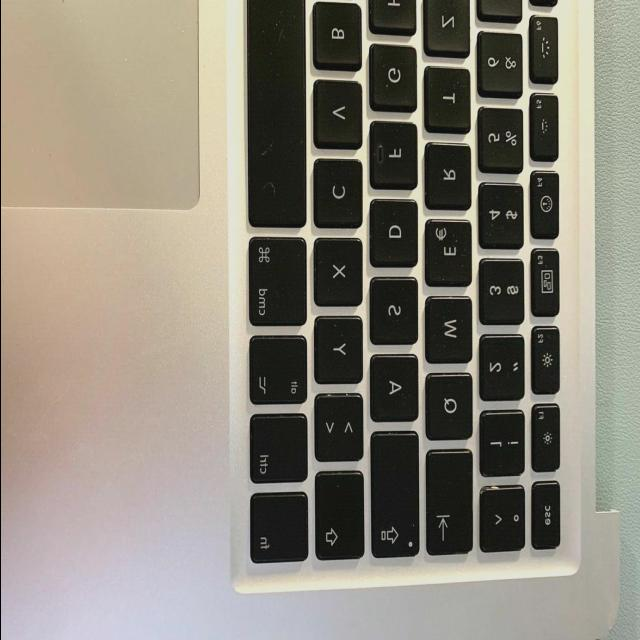1: (480, 412, 526, 480)
2: (481, 336, 527, 405)
3: (480, 260, 526, 328)
4: (480, 183, 526, 252)
5: (479, 108, 526, 176)
6: (478, 31, 526, 100)
a: (371, 355, 421, 426)
alt-left: (248, 335, 309, 409)
b: (314, 1, 365, 72)
c: (314, 159, 366, 232)
caret: (481, 487, 527, 556)
d: (371, 199, 421, 271)
e: (425, 220, 474, 291)
f: (371, 120, 421, 192)
g: (370, 44, 420, 114)
h: (371, 1, 419, 35)
keyboard: (228, 0, 598, 577)
less: (315, 393, 366, 466)
q: (425, 374, 475, 444)
r: (425, 143, 474, 213)
s: (371, 278, 421, 348)
shift-left: (315, 471, 367, 564)
shift-lock: (370, 432, 422, 564)
space: (248, 0, 309, 233)
strg-left: (249, 414, 309, 488)
t: (426, 68, 474, 135)
tab: (425, 450, 475, 562)
v: (314, 80, 366, 152)
w: (426, 298, 476, 368)
x: (315, 238, 365, 309)
y: (315, 316, 366, 387)
z: (425, 1, 473, 59)
